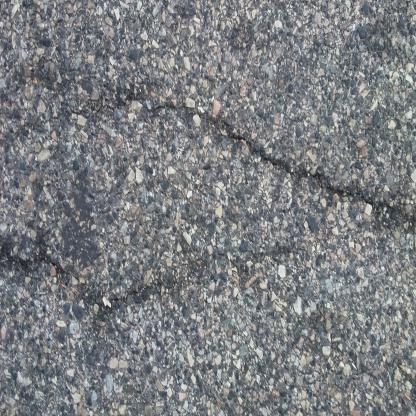Cracks: (117, 83, 416, 238)
